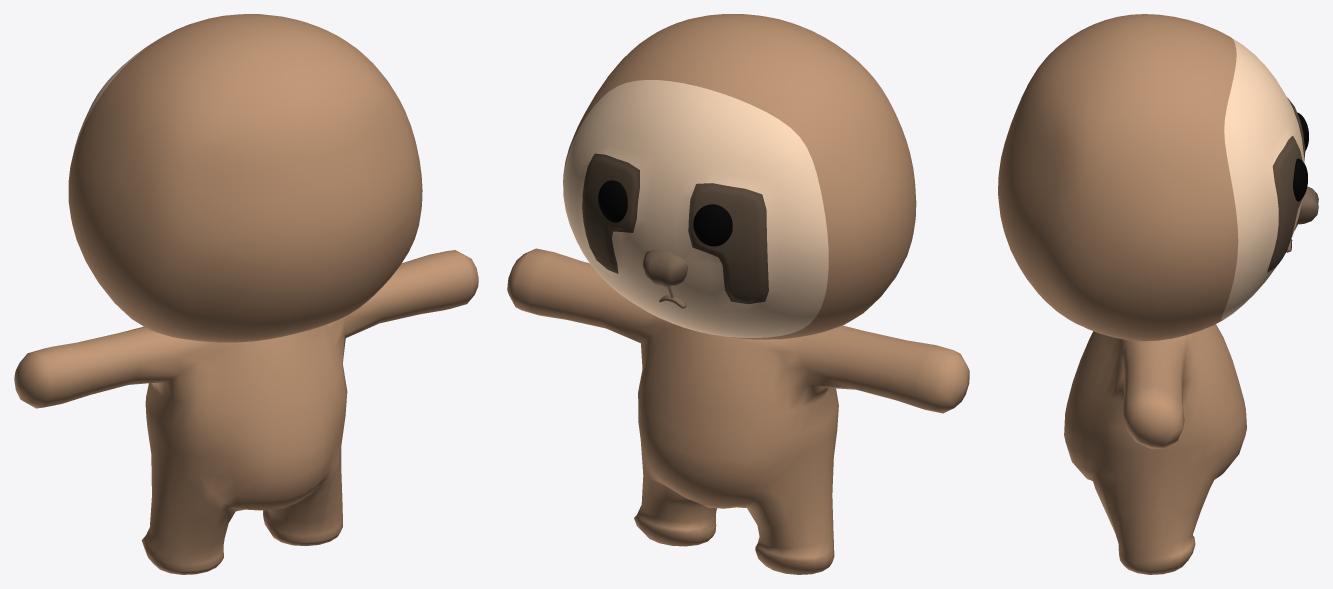
File: sloth1.fbx
The picture shows the model from 3 angles, left to right: view 1: azimuth 30°, elevation 25°; view 2: azimuth 150°, elevation 25°; view 3: azimuth 270°, elevation 25°; orthographic projection. The views are drawn at different scales.
Visible parts, largest first — view 1: sloth1; view 2: sloth1; view 3: sloth1.
Part boxes in pixels (x1,y1,x2,y2): sloth1: (14, 14, 478, 574); sloth1: (507, 14, 969, 574); sloth1: (998, 14, 1318, 574).
Bounding box in the file's own units: 39.91 × 43.52 × 25.17.
